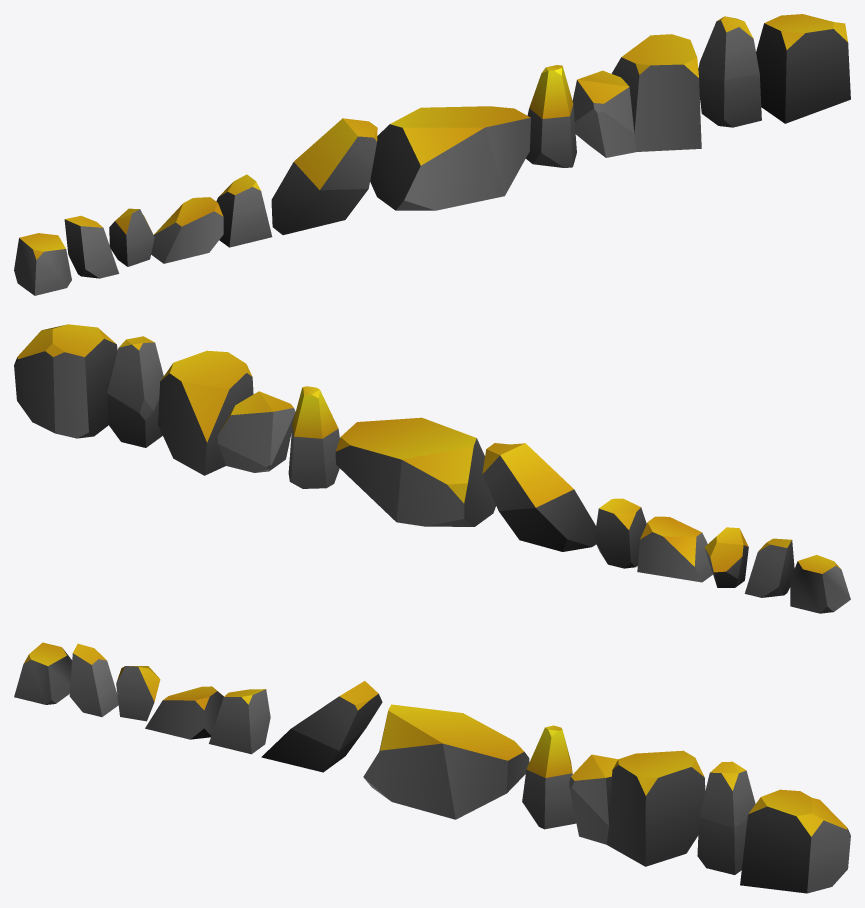
The model's file is Batu Kuning.fbx.
The picture shows the model from 3 angles, top to bottom: view 1: azimuth 30°, elevation 25°; view 2: azimuth 150°, elevation 25°; view 3: azimuth 330°, elevation 25°; orthographic projection.
Visible parts, largest first — view 1: Cube.005, Cube.009, Cube.011, Cube.015, Cube.012, Cube.008, Cube.003, Cube.016, Cube.004, Cube.001, Cube.002; view 2: Cube.005, Cube.009, Cube.011, Cube.015, Cube.012, Cube.008, Cube.003, Cube.004, Cube.016, Cube.001, Cube.002; view 3: Cube.005, Cube.009, Cube.011, Cube.015, Cube.012, Cube.008, Cube.004, Cube.003, Cube.016, Cube.001, Cube.002.
Part boxes in pixels (x1=…): Cube.005: x1=370, y1=106, x2=530, y2=210; Cube.009: x1=572, y1=34, x2=701, y2=157; Cube.011: x1=756, y1=14, x2=850, y2=123; Cube.015: x1=271, y1=118, x2=377, y2=234; Cube.012: x1=698, y1=16, x2=761, y2=127; Cube.008: x1=526, y1=65, x2=576, y2=167; Cube.003: x1=151, y1=197, x2=223, y2=263; Cube.016: x1=14, y1=233, x2=71, y2=295; Cube.004: x1=216, y1=174, x2=272, y2=247; Cube.001: x1=64, y1=215, x2=119, y2=278; Cube.002: x1=109, y1=208, x2=154, y2=266; Cube.005: x1=335, y1=417, x2=495, y2=526; Cube.009: x1=158, y1=350, x2=295, y2=475; Cube.011: x1=14, y1=324, x2=117, y2=438; Cube.015: x1=482, y1=443, x2=596, y2=551; Cube.012: x1=107, y1=336, x2=163, y2=447; Cube.008: x1=288, y1=386, x2=339, y2=488; Cube.003: x1=637, y1=516, x2=712, y2=582; Cube.004: x1=594, y1=498, x2=646, y2=568; Cube.016: x1=790, y1=555, x2=850, y2=613; Cube.001: x1=744, y1=538, x2=794, y2=597; Cube.002: x1=704, y1=527, x2=748, y2=587; Cube.005: x1=363, y1=704, x2=529, y2=819; Cube.009: x1=569, y1=750, x2=705, y2=866; Cube.011: x1=740, y1=789, x2=850, y2=893; Cube.015: x1=261, y1=681, x2=382, y2=772; Cube.012: x1=697, y1=761, x2=755, y2=874; Cube.008: x1=522, y1=725, x2=576, y2=829; Cube.004: x1=209, y1=689, x2=270, y2=754; Cube.003: x1=145, y1=686, x2=223, y2=739; Cube.016: x1=14, y1=642, x2=72, y2=704; Cube.001: x1=69, y1=643, x2=118, y2=716; Cube.002: x1=116, y1=666, x2=160, y2=721.
Size of the model in its own units: 1935 by 221 by 221.
